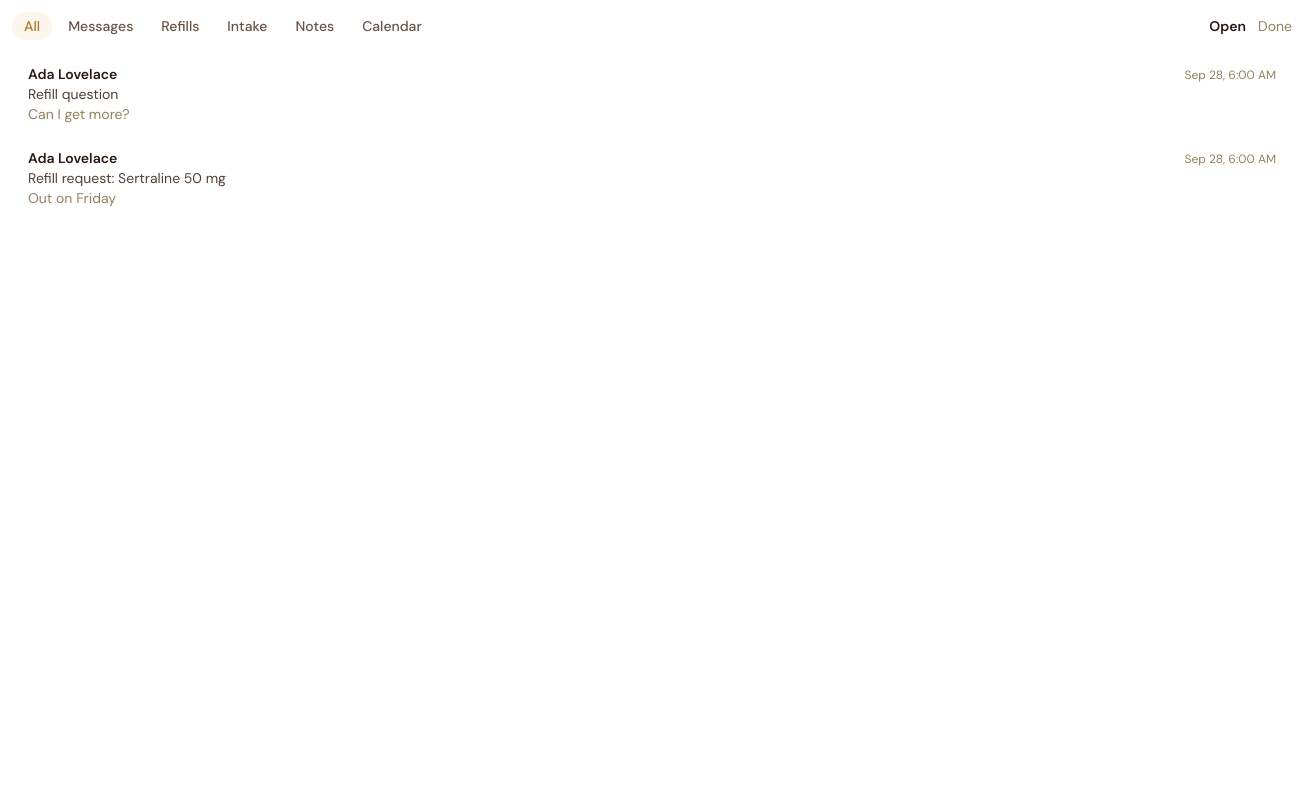
Test: Inbox › the client's earlier messages, after a reply › asks once, and Yes marks them handled this time only
This screenshot has width=1304, height=812.
Click the 1st button with test id "inbox-row": (73, 74) [12, 52, 1292, 136]
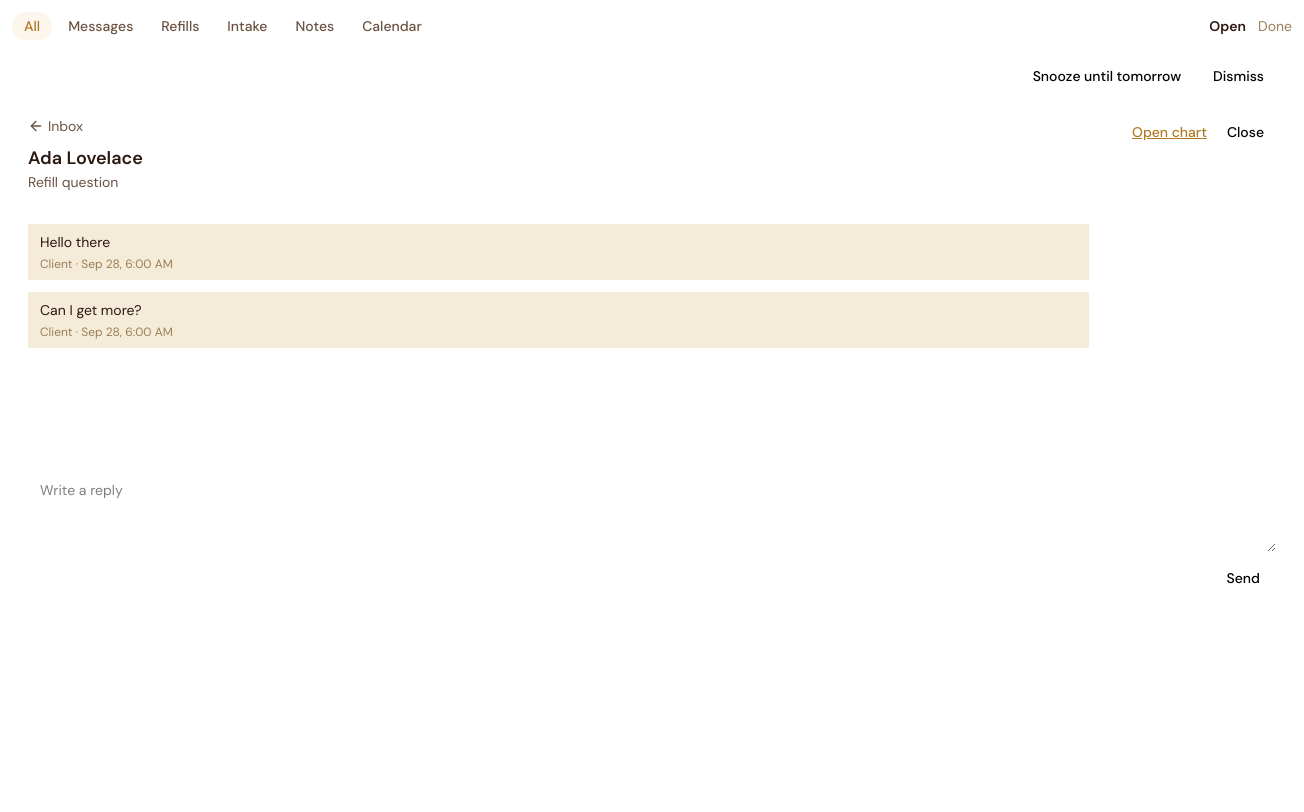
In the text box with test id "thread-reply-input": (652, 512) [28, 472, 1276, 552], type "Yes, sent."
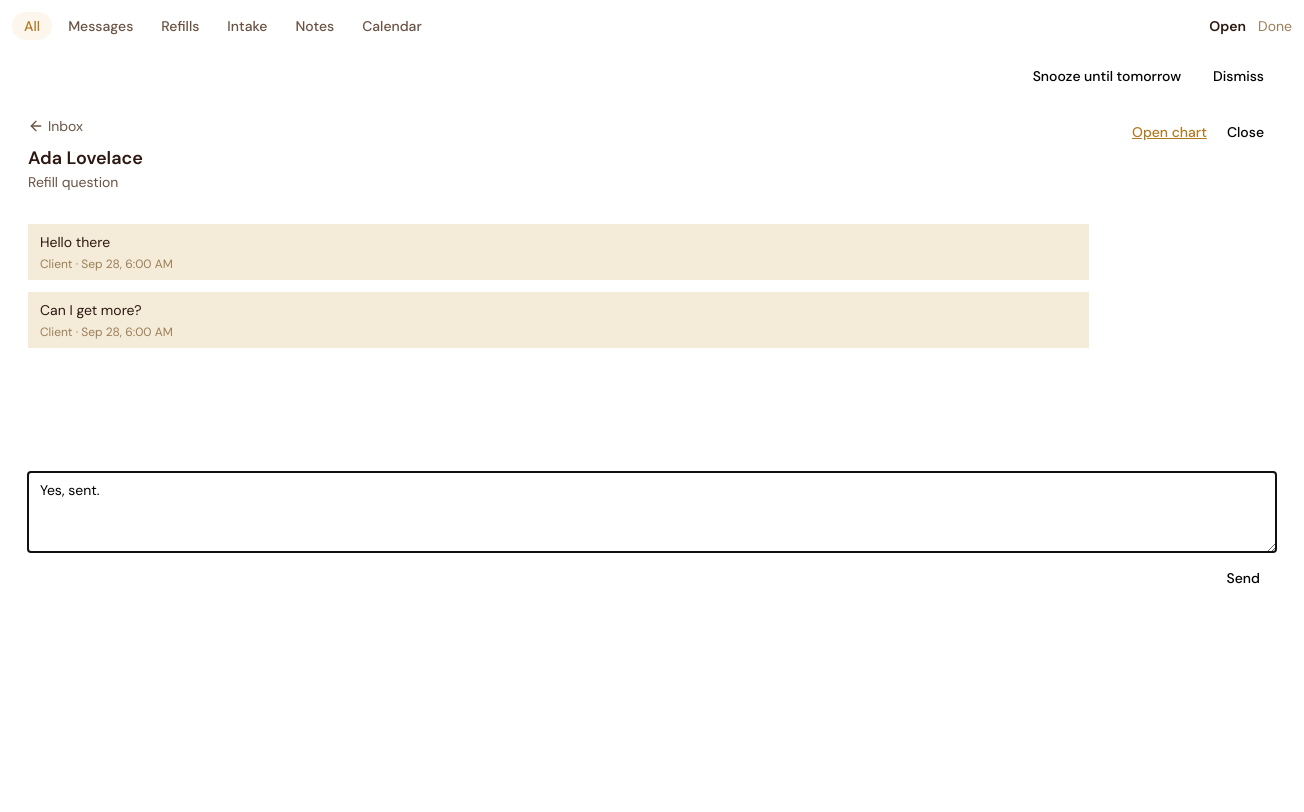
Click the button with test id "thread-reply-send": (1243, 578) [1210, 560, 1276, 596]
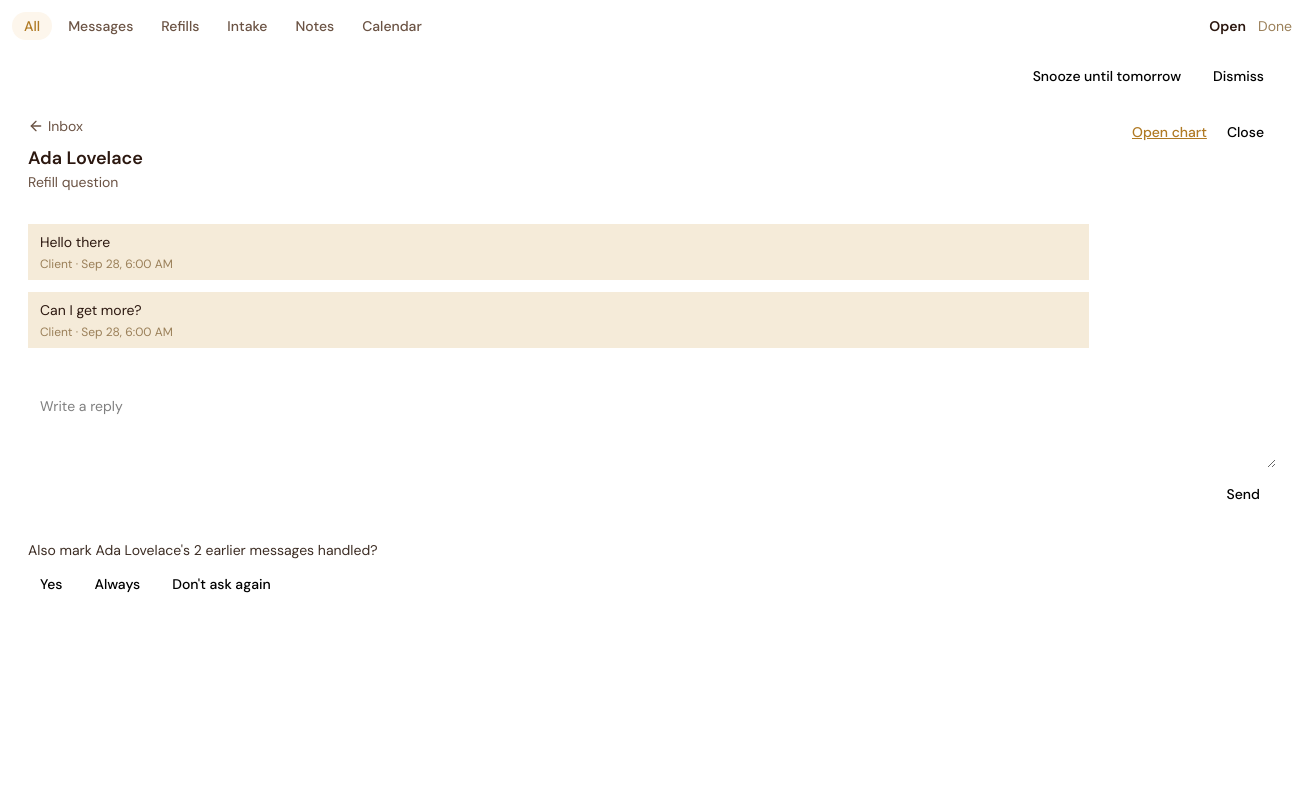
Result: the message with test id "inbox-earlier-prompt" shows "Also mark Ada Lovelace's 2 earlier messages handled?" at [28, 541, 378, 559]
Click the button "Yes": (51, 584) [28, 568, 74, 600]
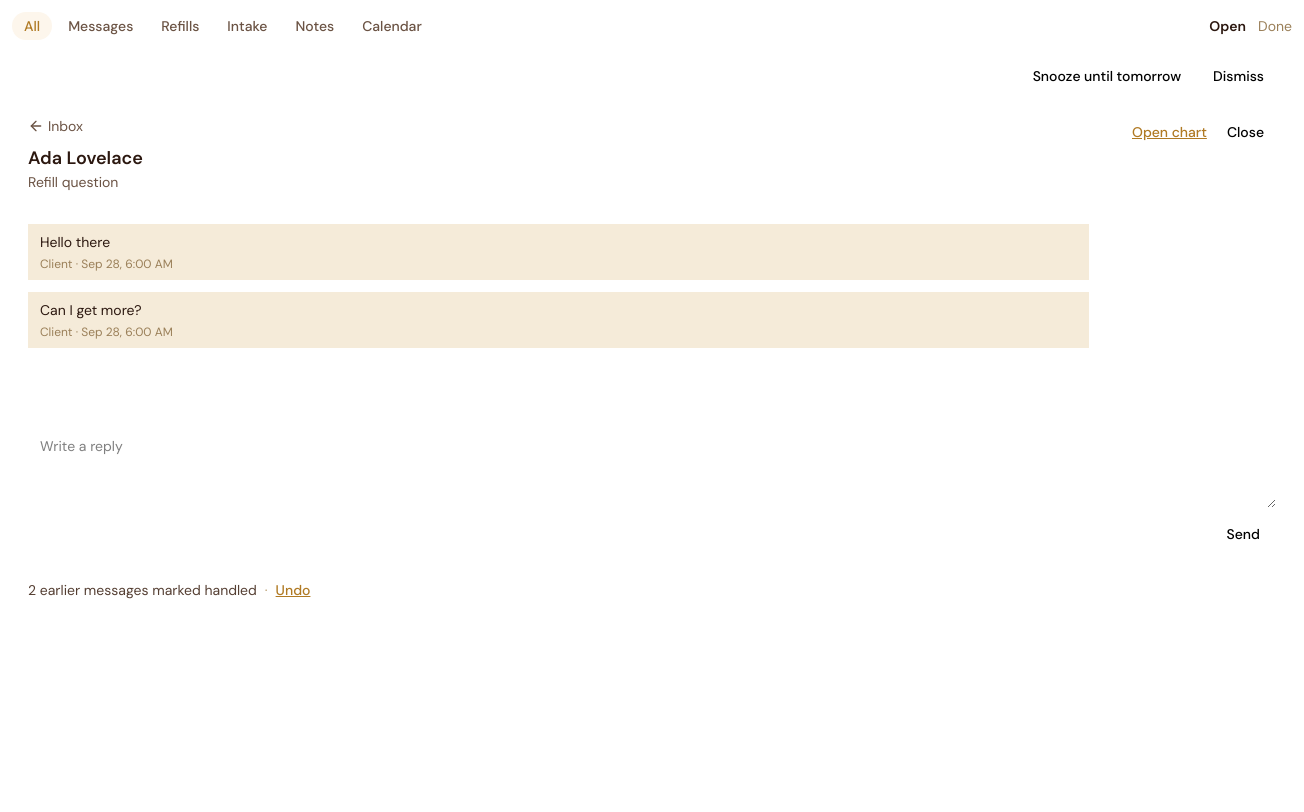
Result: the message with test id "inbox-earlier-handled" shows "2 earlier messages marked handled" at [28, 581, 257, 599]
